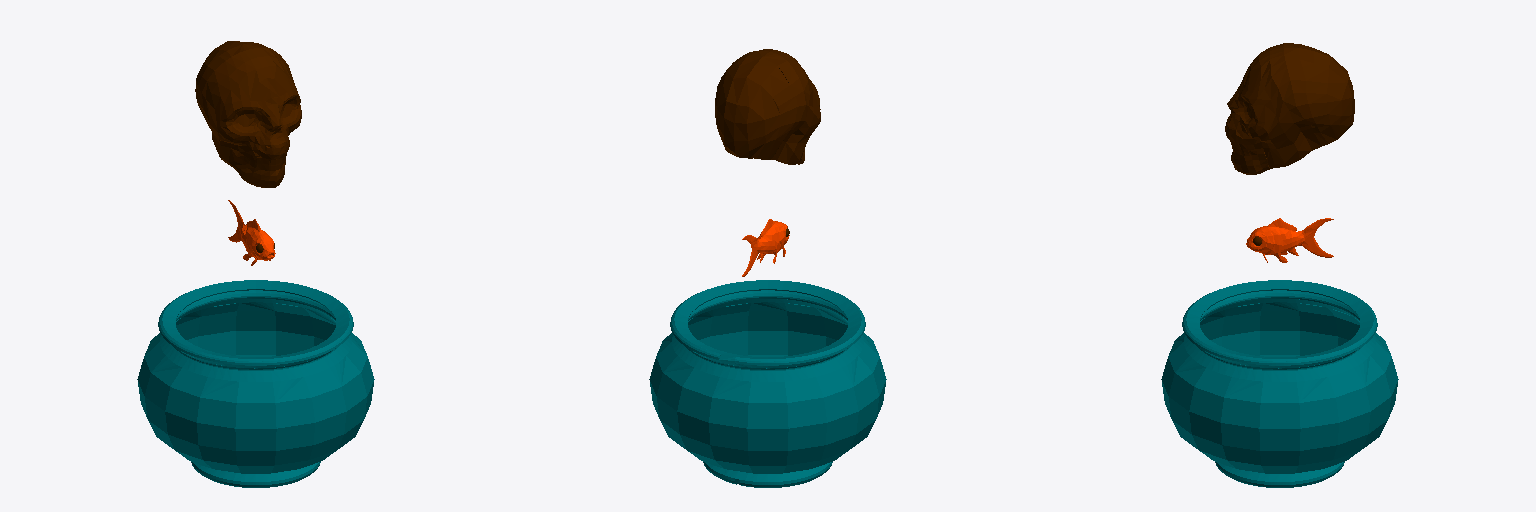
File: GoldfishBowlSkull.obj
3 renders of one model, left to right at view 1: azimuth 30°, elevation 25°; view 2: azimuth 150°, elevation 25°; view 3: azimuth 270°, elevation 25°, orthographic.
Parts seen in each view (by area): view 1: initialShadingGrouprevolvedSurface1, initialShadingGroup Skull:polySurface1, initialShadingGrouppolySurface1; view 2: initialShadingGrouprevolvedSurface1, initialShadingGroup Skull:polySurface1, initialShadingGrouppolySurface1; view 3: initialShadingGrouprevolvedSurface1, initialShadingGroup Skull:polySurface1, initialShadingGrouppolySurface1.
Part boxes in pixels (x1,y1,x2,y2): initialShadingGrouprevolvedSurface1: (137,280,374,487); initialShadingGroup Skull:polySurface1: (195,41,301,187); initialShadingGrouppolySurface1: (228,200,275,265); initialShadingGrouprevolvedSurface1: (649,280,886,487); initialShadingGroup Skull:polySurface1: (715,49,820,164); initialShadingGrouppolySurface1: (742,219,789,276); initialShadingGrouprevolvedSurface1: (1161,280,1398,487); initialShadingGroup Skull:polySurface1: (1225,43,1354,174); initialShadingGrouppolySurface1: (1246,218,1333,262).
Bounding box in the file's own units: 39.54 × 77.16 × 40.16.